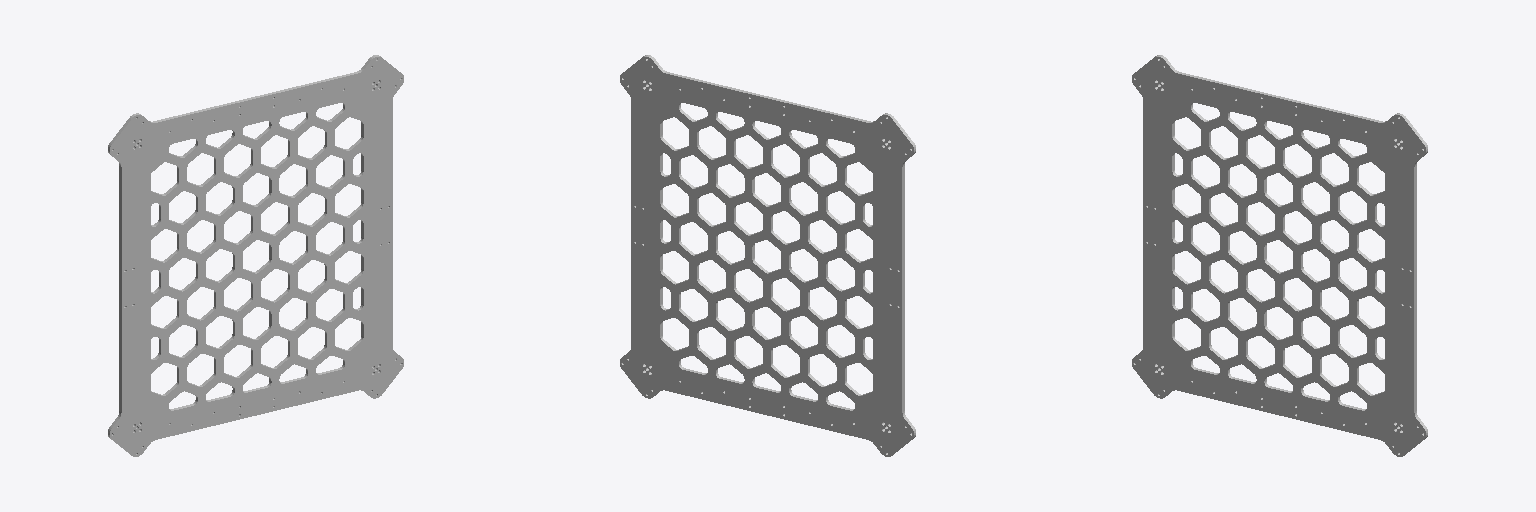
The model's file is body_Frame_Plate_Frame_Plate.obj.
The picture shows the model from 3 angles: view 1: azimuth 30°, elevation 25°; view 2: azimuth 150°, elevation 25°; view 3: azimuth 330°, elevation 25°; orthographic projection.
Size of the model in its own units: 0.469 by 0.5198 by 0.006.